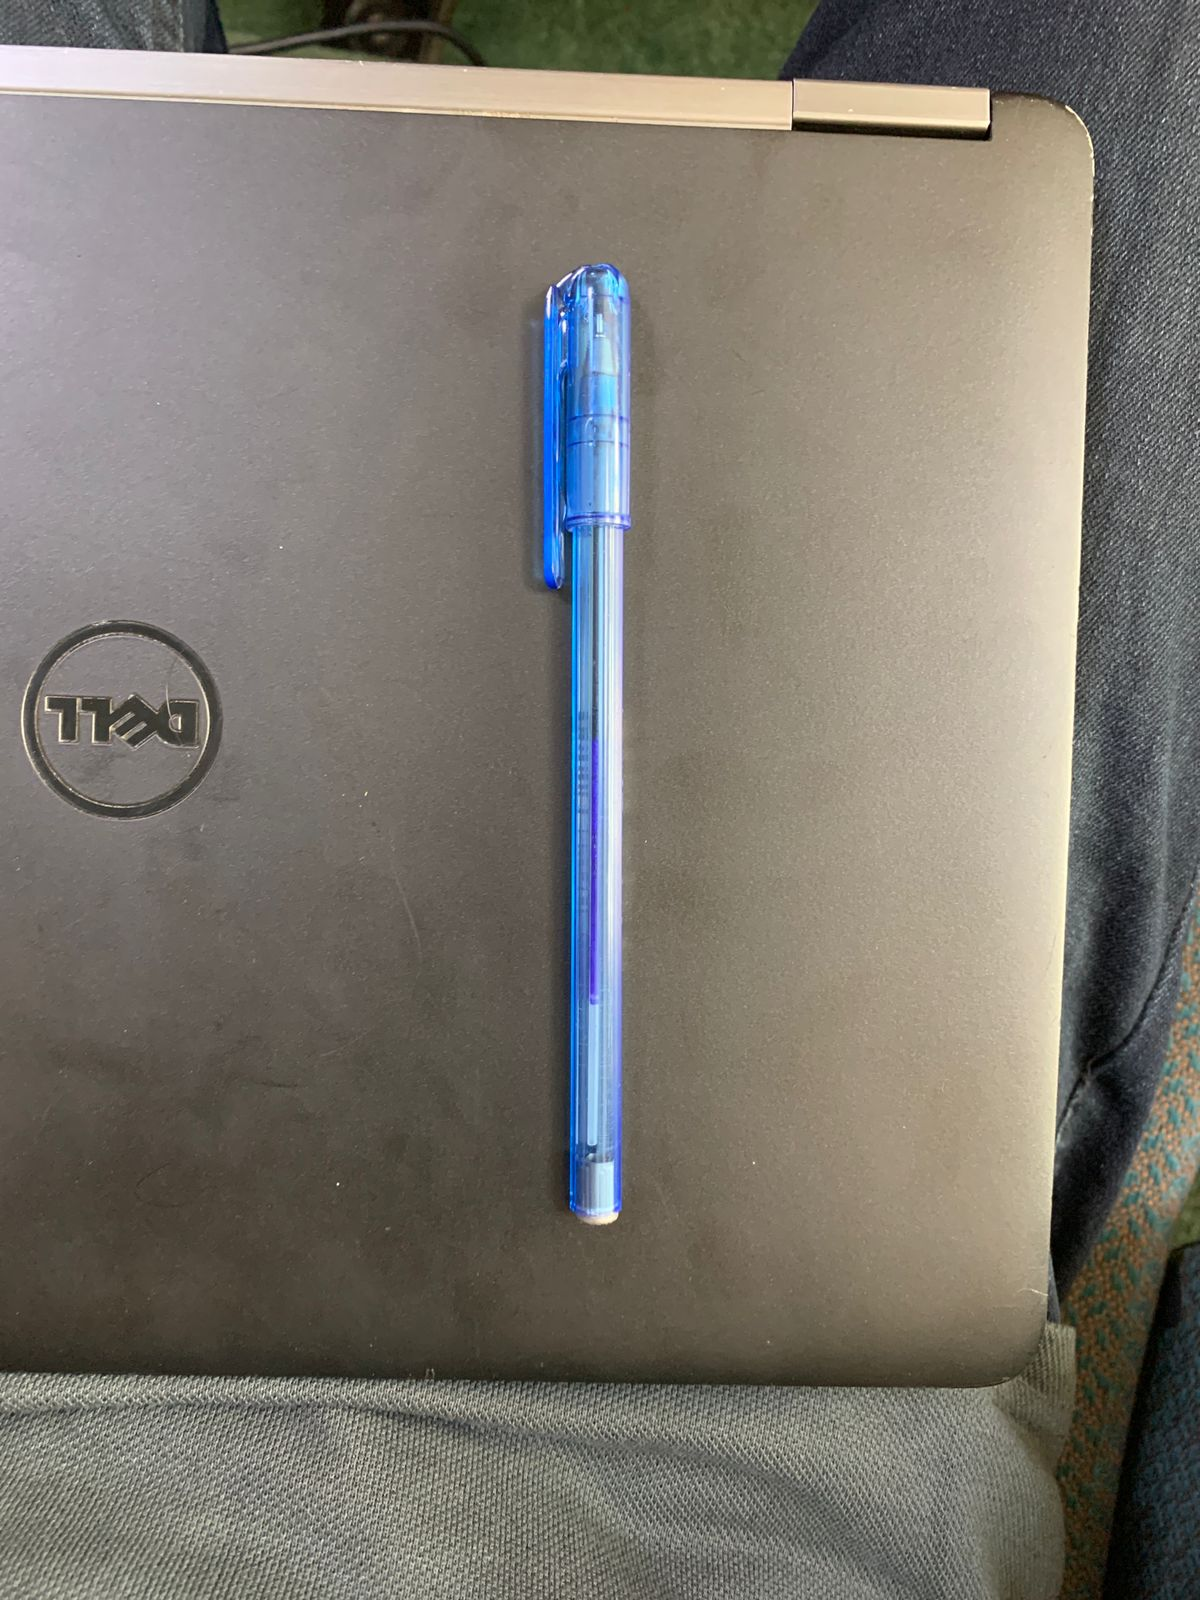pen: (451, 181, 782, 1311)
